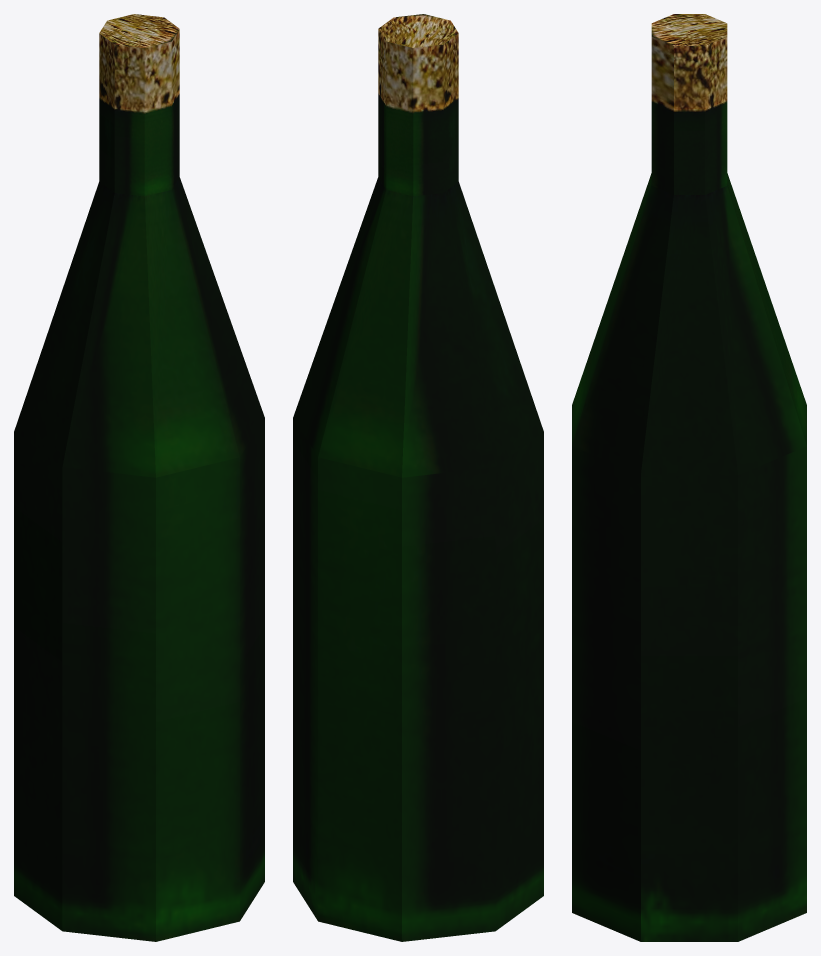
Rendered from mm9_bottlefloat.glb.
3 views of the same model, side by side, from view 1: azimuth 30°, elevation 25°; view 2: azimuth 150°, elevation 25°; view 3: azimuth 270°, elevation 25° (orthographic).
Visible parts, largest first — view 1: Bottle; view 2: Bottle; view 3: Bottle.
Boxes of the visible parts, x1=… form: Bottle: x1=14, y1=14, x2=264, y2=941; Bottle: x1=293, y1=14, x2=543, y2=941; Bottle: x1=572, y1=14, x2=806, y2=941.
Size of the model in its own units: 13.87 by 56.18 by 13.87.
Materials: 1 (1 with a texture image).
